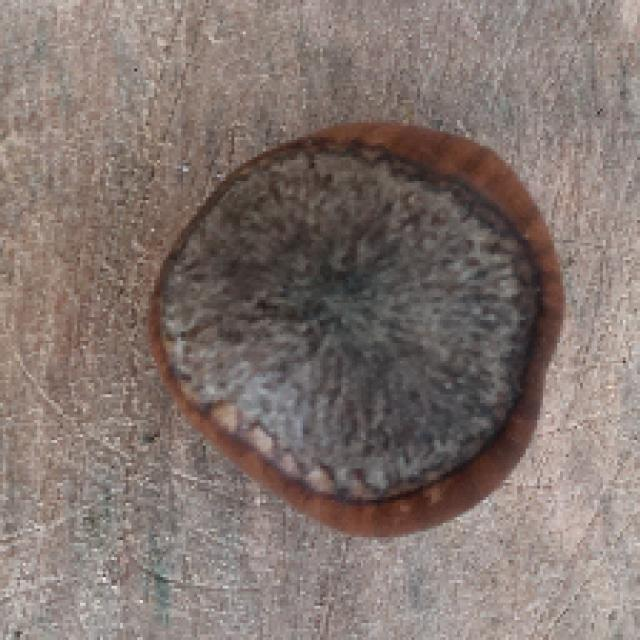damagedHazelnut: (149, 117, 564, 547)
